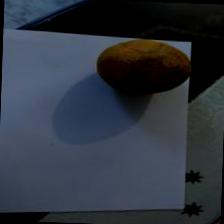Orange Rotten: (94, 34, 196, 100)
